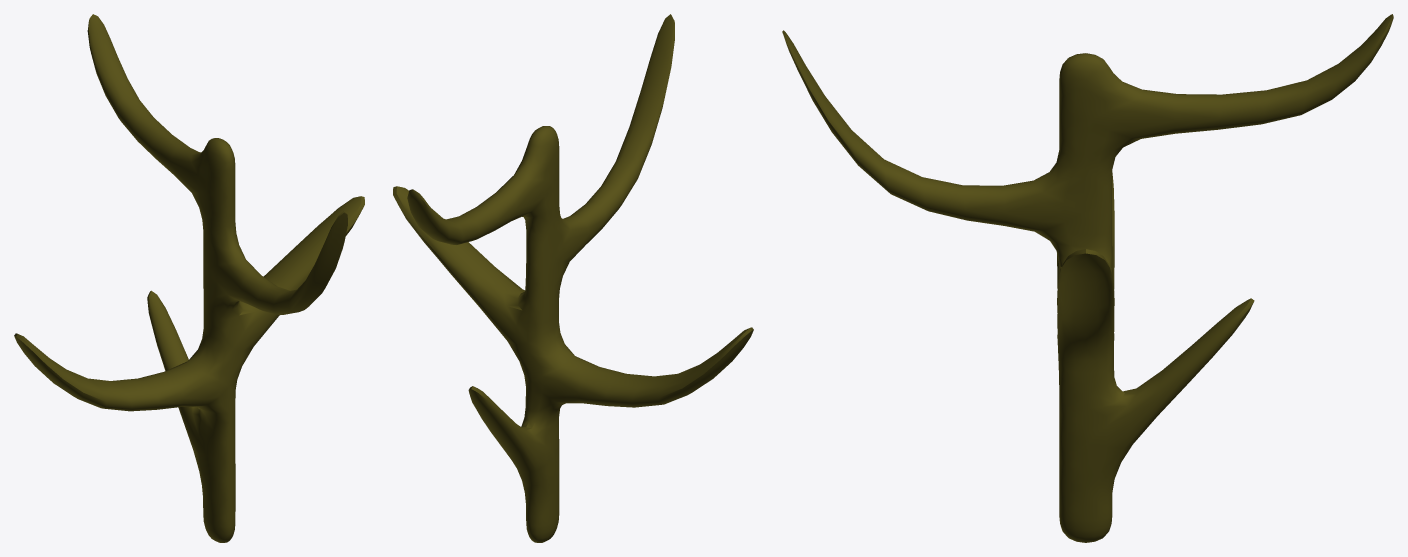
File: Dead Tree 8.fbx
3 views of the same model, side by side, from view 1: azimuth 30°, elevation 25°; view 2: azimuth 150°, elevation 25°; view 3: azimuth 270°, elevation 25° (orthographic). The views are drawn at different scales.
Parts seen in each view (by area): view 1: Cube; view 2: Cube; view 3: Cube.
Boxes of the visible parts, x1,y1,x2,y2 form: Cube: (14, 14, 364, 542); Cube: (393, 14, 753, 542); Cube: (782, 14, 1393, 542).
Size of the model in its own units: 226 by 269 by 282.
